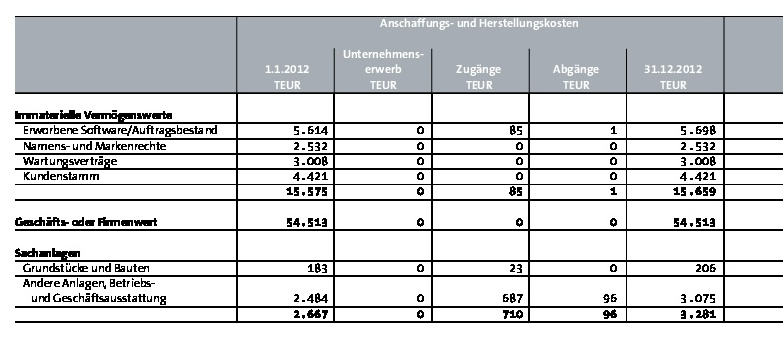table: (0, 0, 783, 342)
